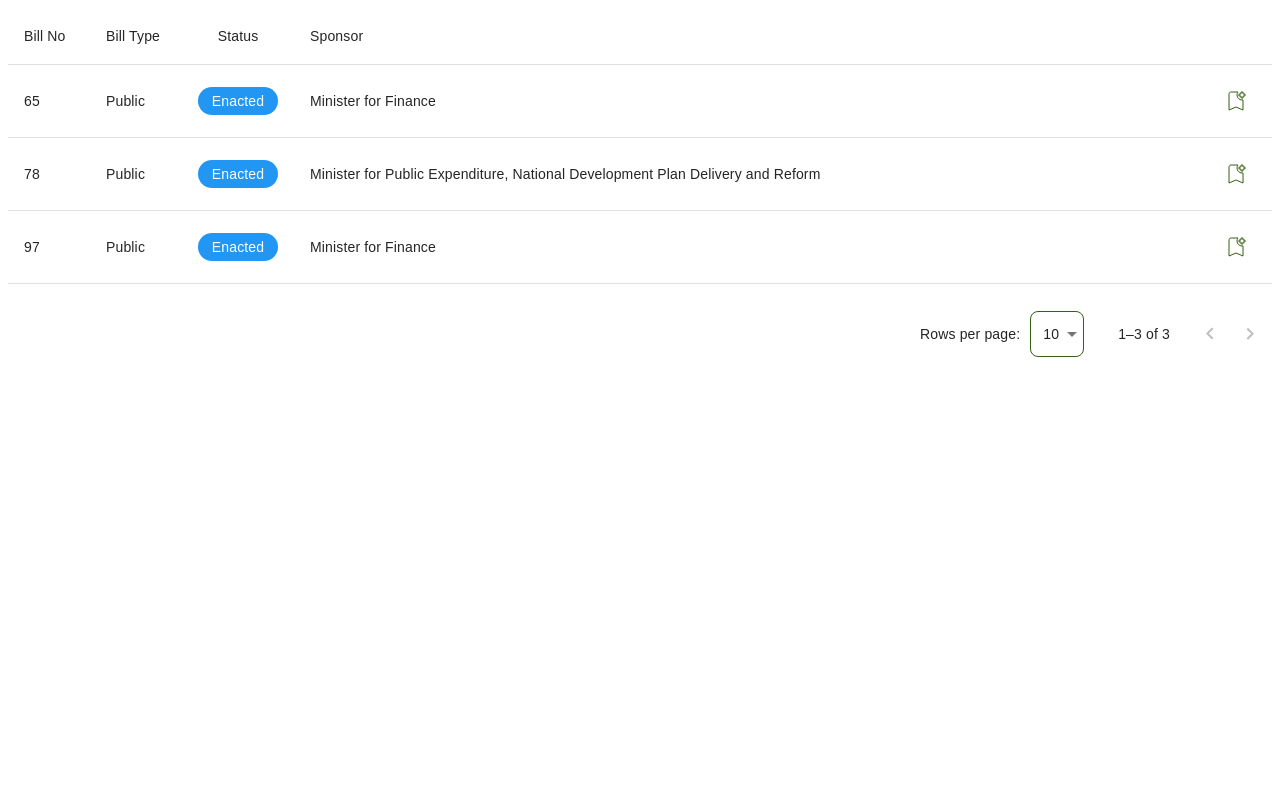
Test: BillsTable › expect to open modal when specific row is clicked
The width and height of the screenshot is (1280, 800).
Click the text "65": (49, 101) [8,64,90,138]
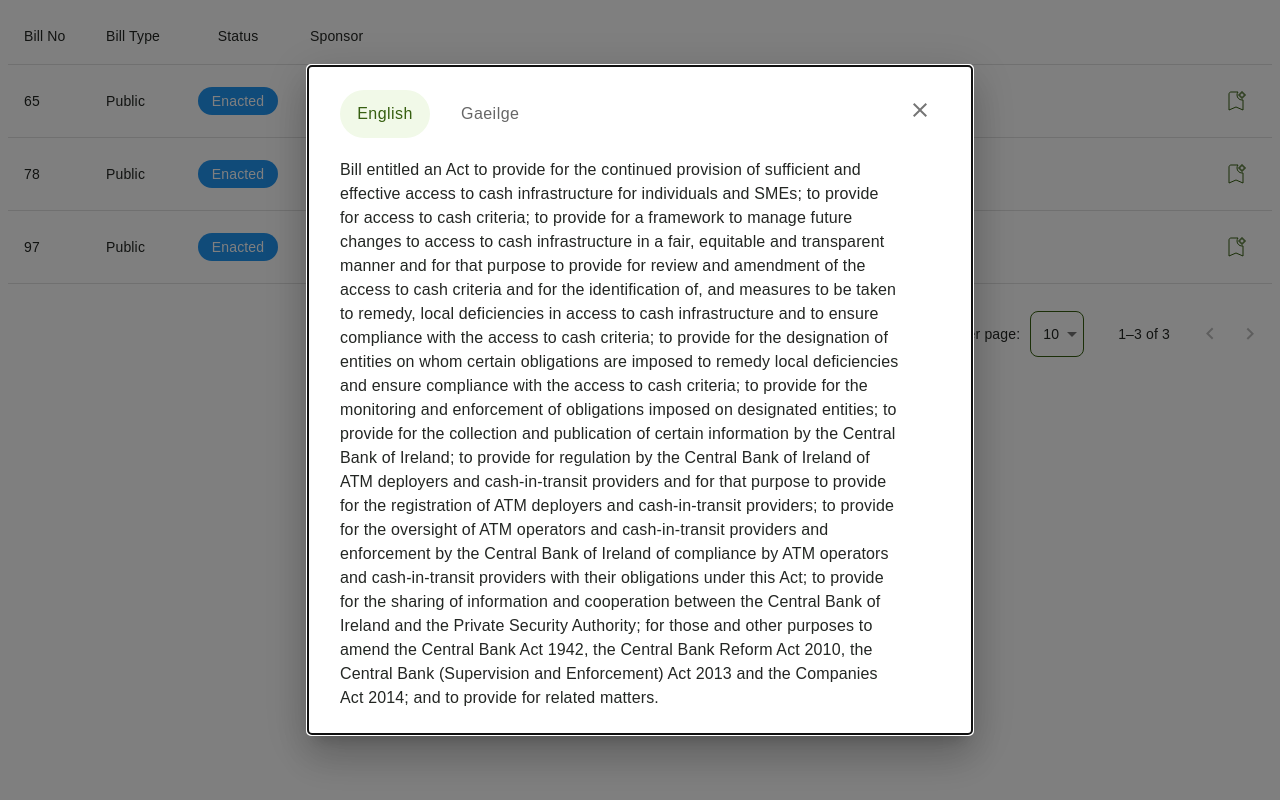
expect the dialog is shown: met, box [308,66,972,734]
expect the tab "English" is shown: met, box [340,90,430,138]
expect the tab "Gaeilge" is shown: met, box [445,90,535,138]
